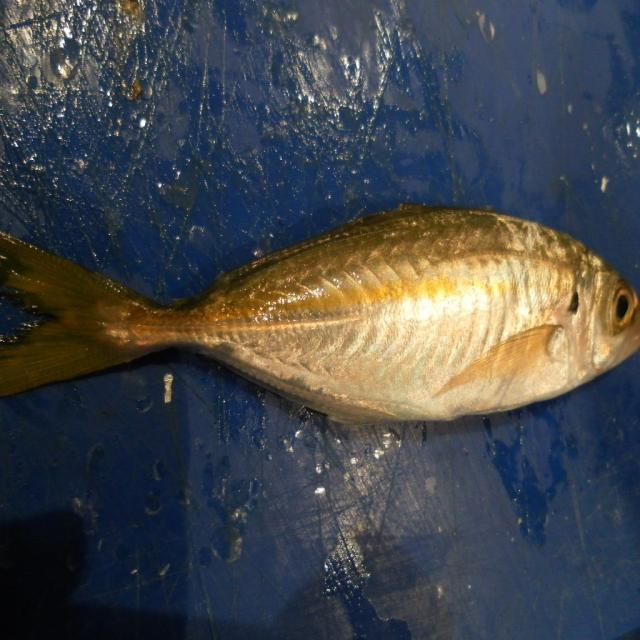Hourse-Mackerel-istavrit-: (0, 205, 640, 428)
